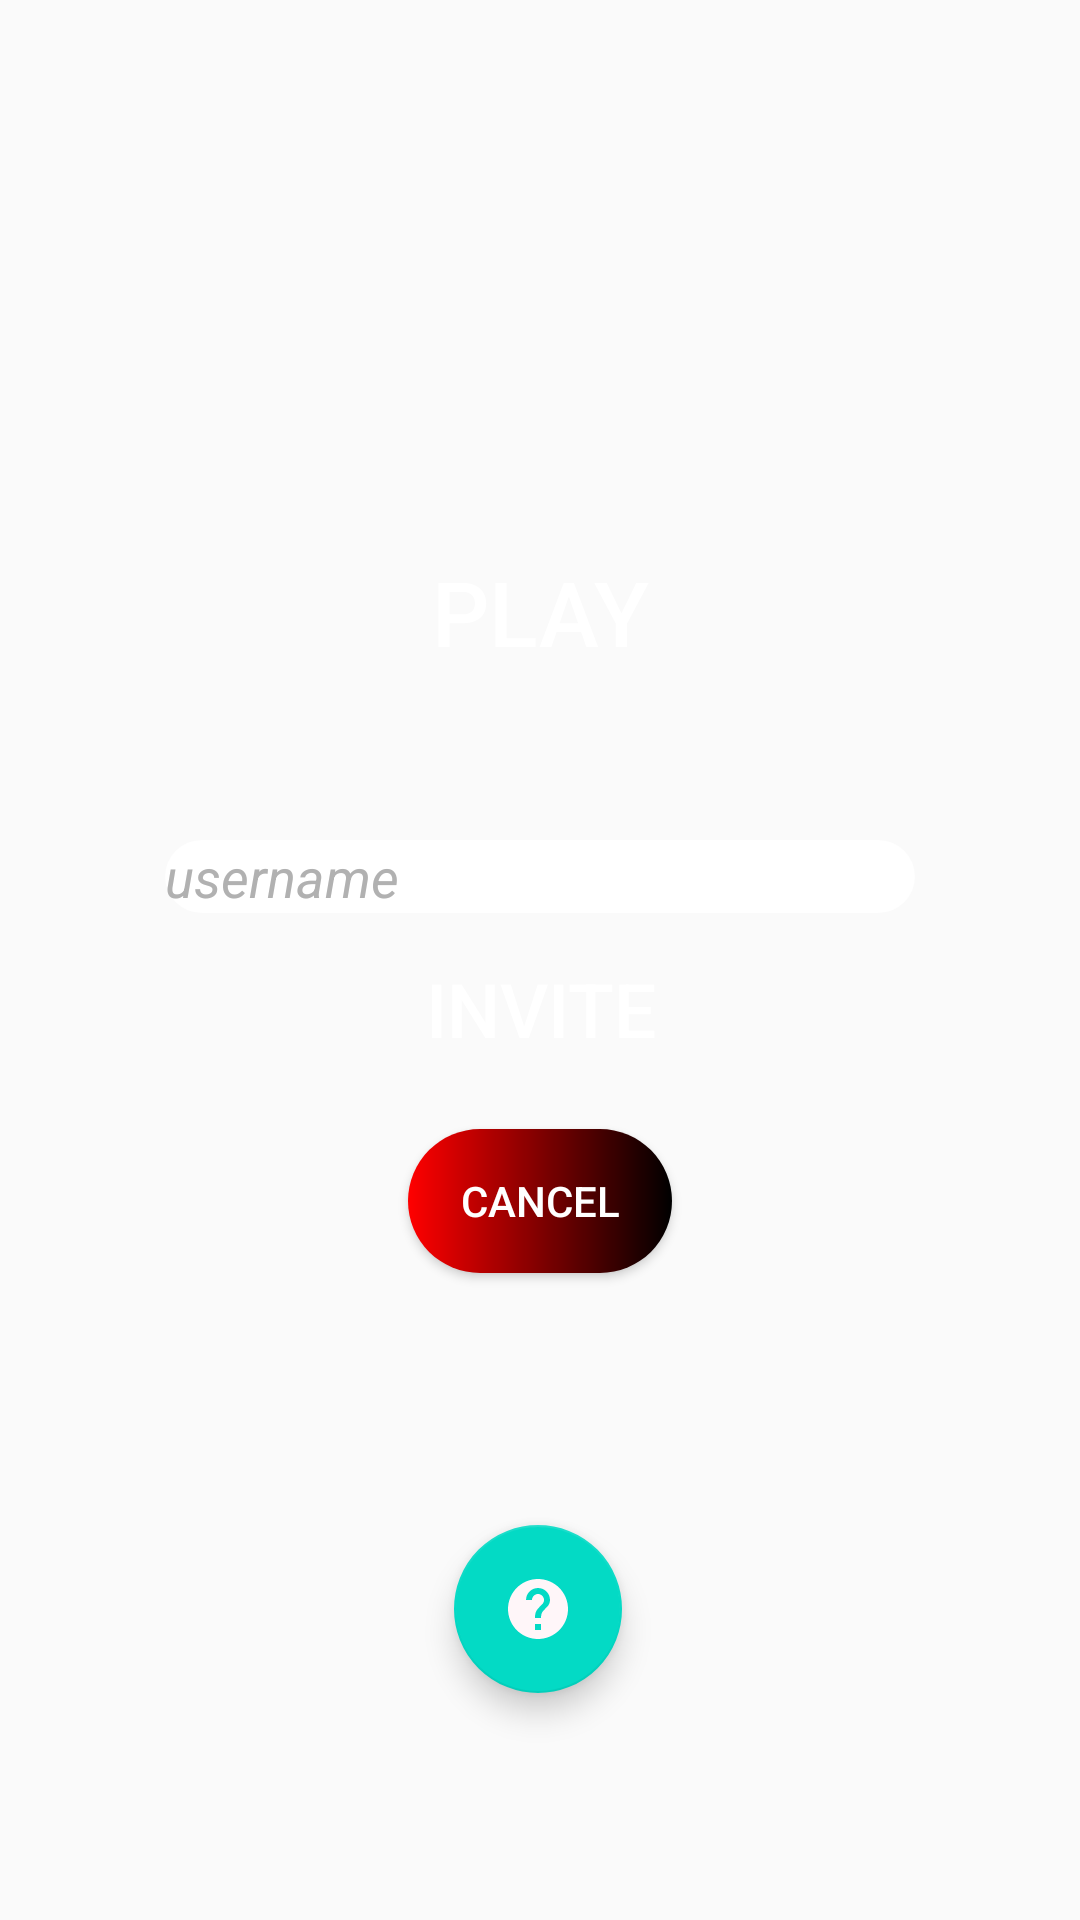

Locate icon controls on the screen. Image size 1080*1920, boxes as (x1, y1, x2, y2).
help: (454, 1525, 622, 1693)
